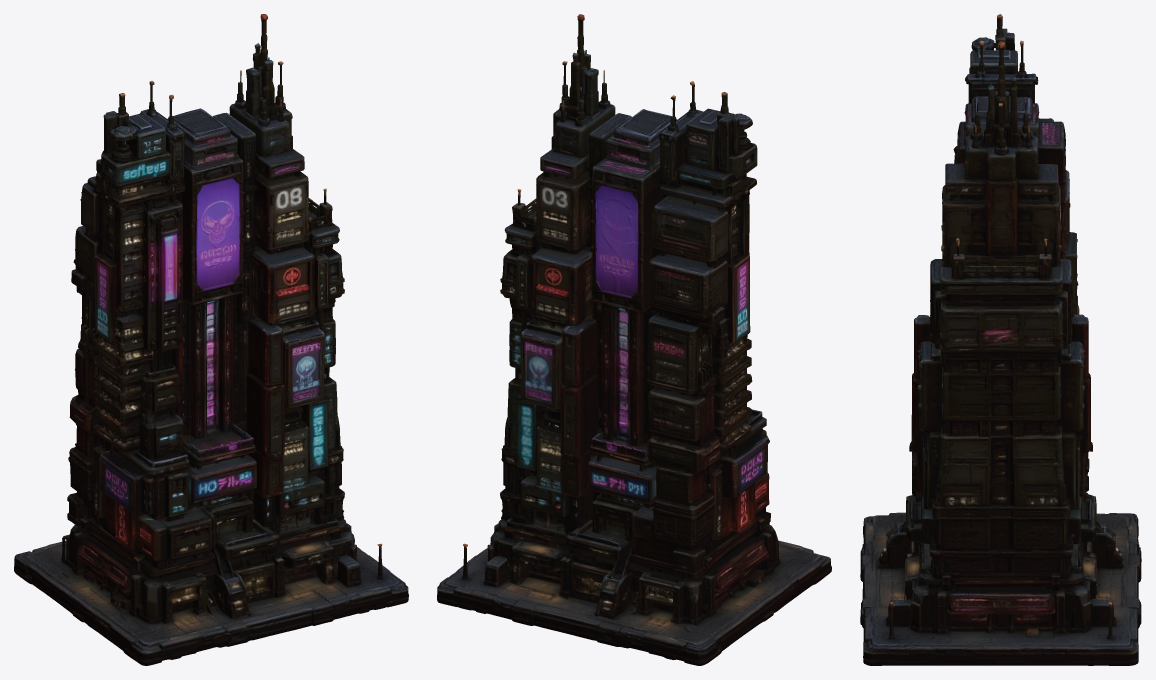
File: edificio_model.gltf
3 views of the same model, side by side, from view 1: azimuth 30°, elevation 25°; view 2: azimuth 150°, elevation 25°; view 3: azimuth 270°, elevation 25° (orthographic). The views are drawn at different scales.
Visible parts, largest first — view 1: tripo_node_a9a450cf-84de-46c6-89a2-911388ebc0e4; view 2: tripo_node_a9a450cf-84de-46c6-89a2-911388ebc0e4; view 3: tripo_node_a9a450cf-84de-46c6-89a2-911388ebc0e4.
Boxes of the visible parts, x1,y1,x2,y2 form: tripo_node_a9a450cf-84de-46c6-89a2-911388ebc0e4: [14, 14, 408, 665]; tripo_node_a9a450cf-84de-46c6-89a2-911388ebc0e4: [437, 14, 831, 665]; tripo_node_a9a450cf-84de-46c6-89a2-911388ebc0e4: [860, 14, 1141, 665].
Bounding box in the file's own units: 0.5052 × 1 × 0.4369.
1 material, 1 textured.
